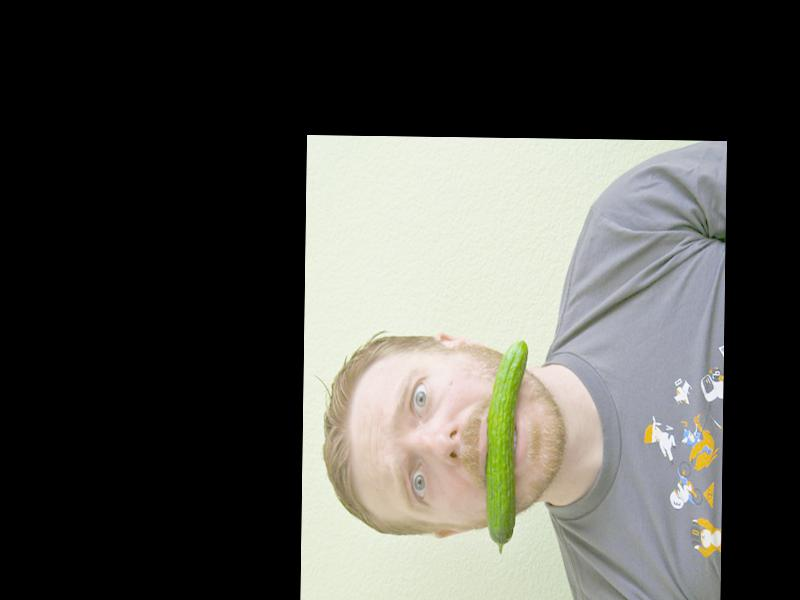Cucumber: (485, 337, 528, 554)
